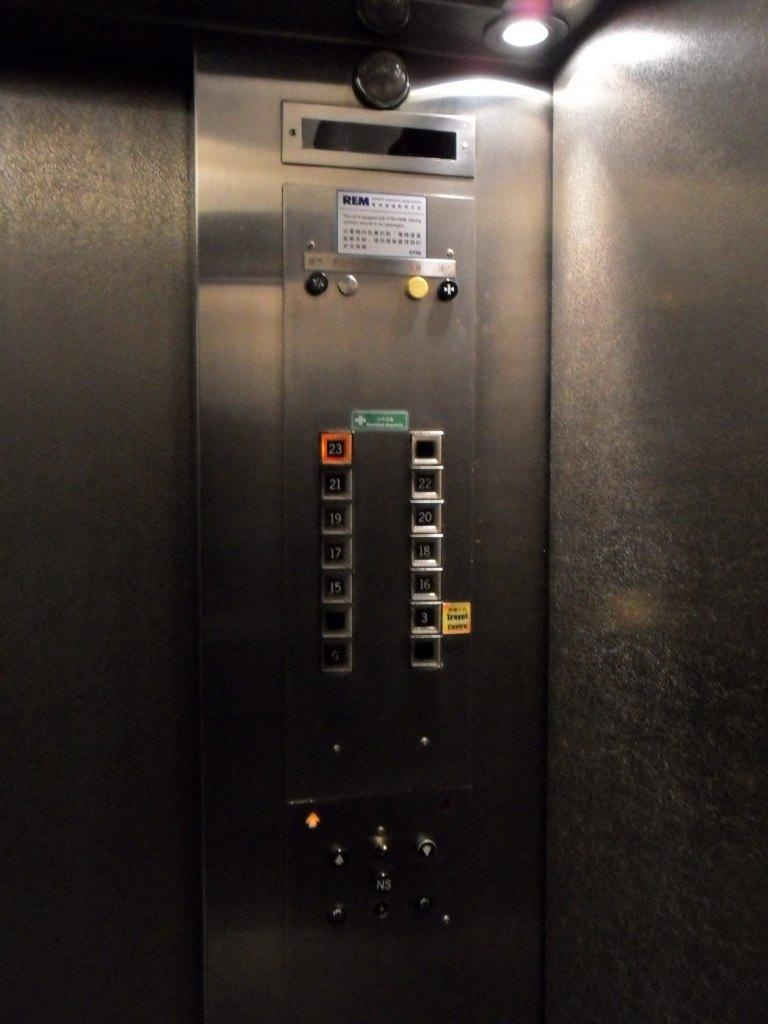15: (319, 569, 354, 605)
16: (408, 567, 443, 601)
17: (318, 535, 353, 568)
18: (408, 534, 443, 568)
19: (318, 498, 354, 535)
20: (408, 502, 443, 535)
21: (318, 464, 353, 499)
22: (408, 466, 443, 500)
23: (318, 430, 354, 464)
3: (408, 602, 441, 634)
G: (319, 637, 353, 674)
close: (435, 278, 460, 302)
down: (414, 837, 438, 863)
empty: (408, 430, 442, 466), (408, 634, 441, 670), (318, 604, 353, 636), (404, 275, 430, 301), (336, 273, 359, 297)
led: (299, 116, 459, 163)
open: (302, 271, 330, 297)
up: (279, 793, 347, 849), (325, 846, 351, 872)
